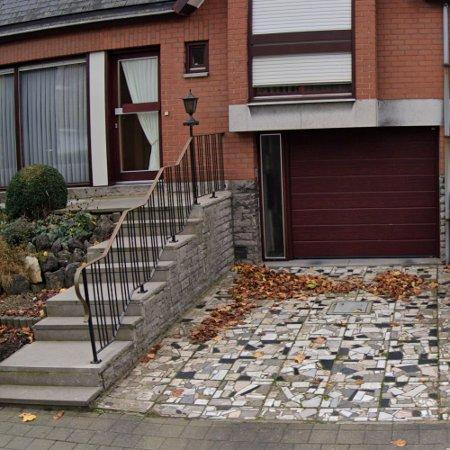stairs: (0, 134, 233, 408)
